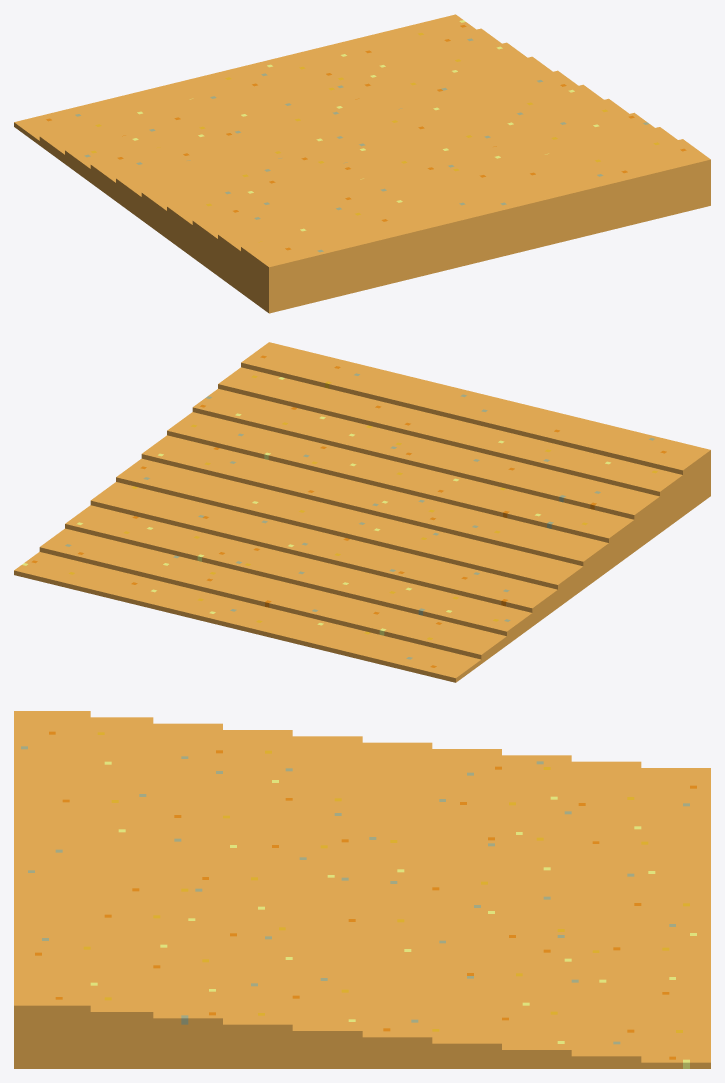
The model's file is sand-elevation-base.obj.
3 views of the same model, one above another, from view 1: azimuth 30°, elevation 25°; view 2: azimuth 150°, elevation 25°; view 3: azimuth 270°, elevation 25° (orthographic). The views are drawn at different scales.
Size of the model in its own units: 10 by 1 by 10.
Materials: 1 (1 with a texture image).
